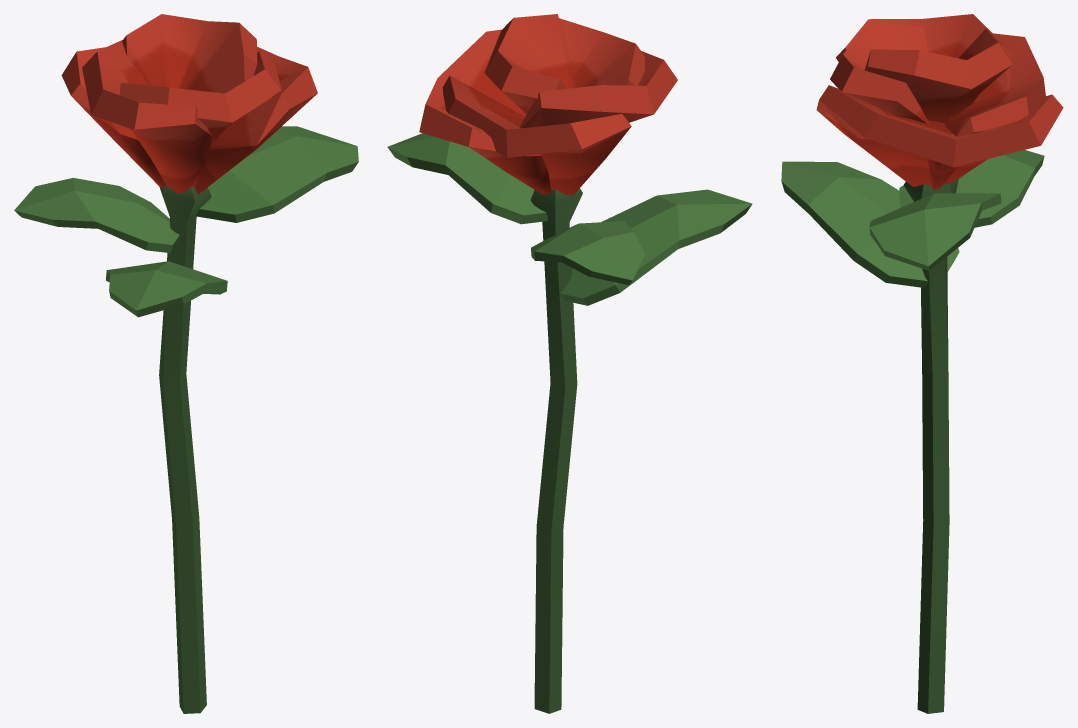
Rendered from SM_Prop_Rose_01.fbx.
3 renders of one model, left to right at view 1: azimuth 30°, elevation 25°; view 2: azimuth 150°, elevation 25°; view 3: azimuth 270°, elevation 25°, orthographic.
Visible parts, largest first — view 1: SM_Prop_Rose_01; view 2: SM_Prop_Rose_01; view 3: SM_Prop_Rose_01.
Part boxes in pixels (<box>): SM_Prop_Rose_01: <box>14,14,358,713</box>; SM_Prop_Rose_01: <box>387,14,752,713</box>; SM_Prop_Rose_01: <box>781,14,1063,713</box>.
Bounding box in the file's own units: 21.56 × 47.51 × 17.86.
Materials: 1 (1 with a texture image).
